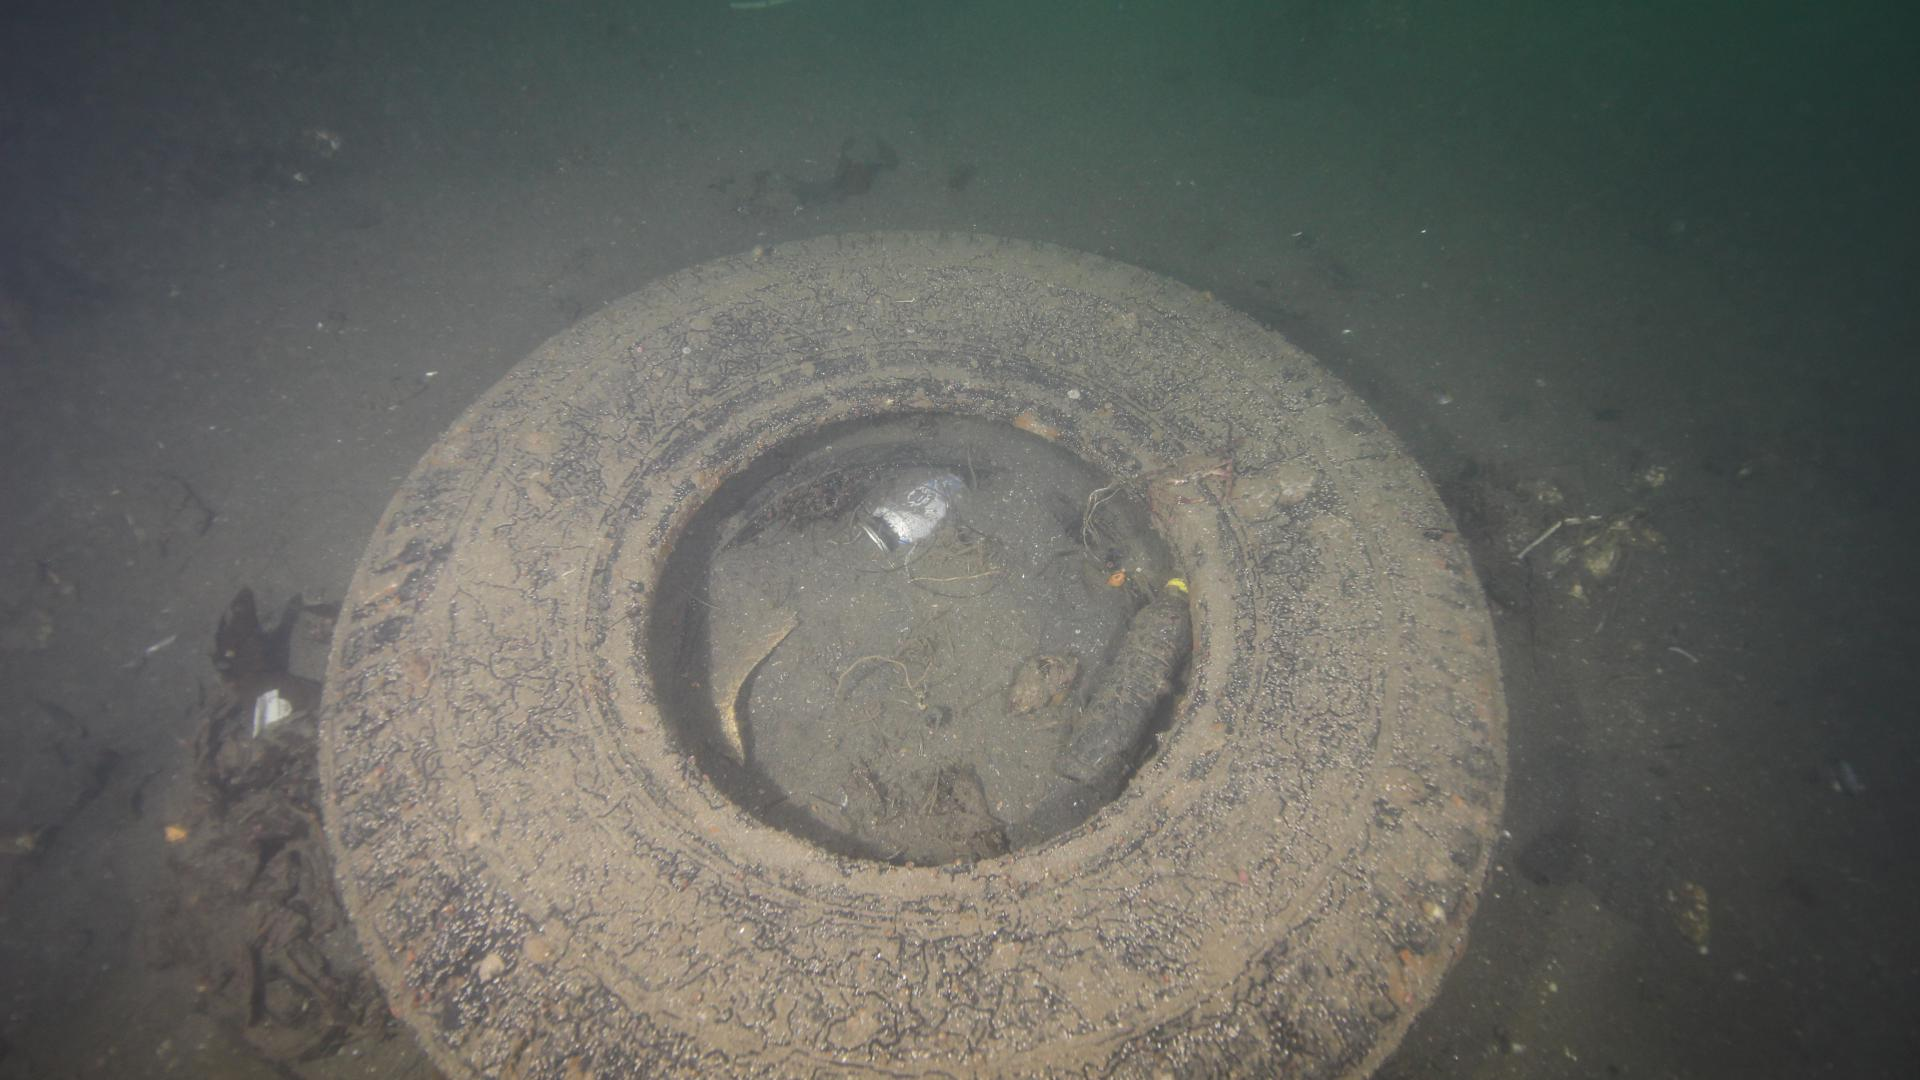tire: (307, 220, 1515, 1080)
